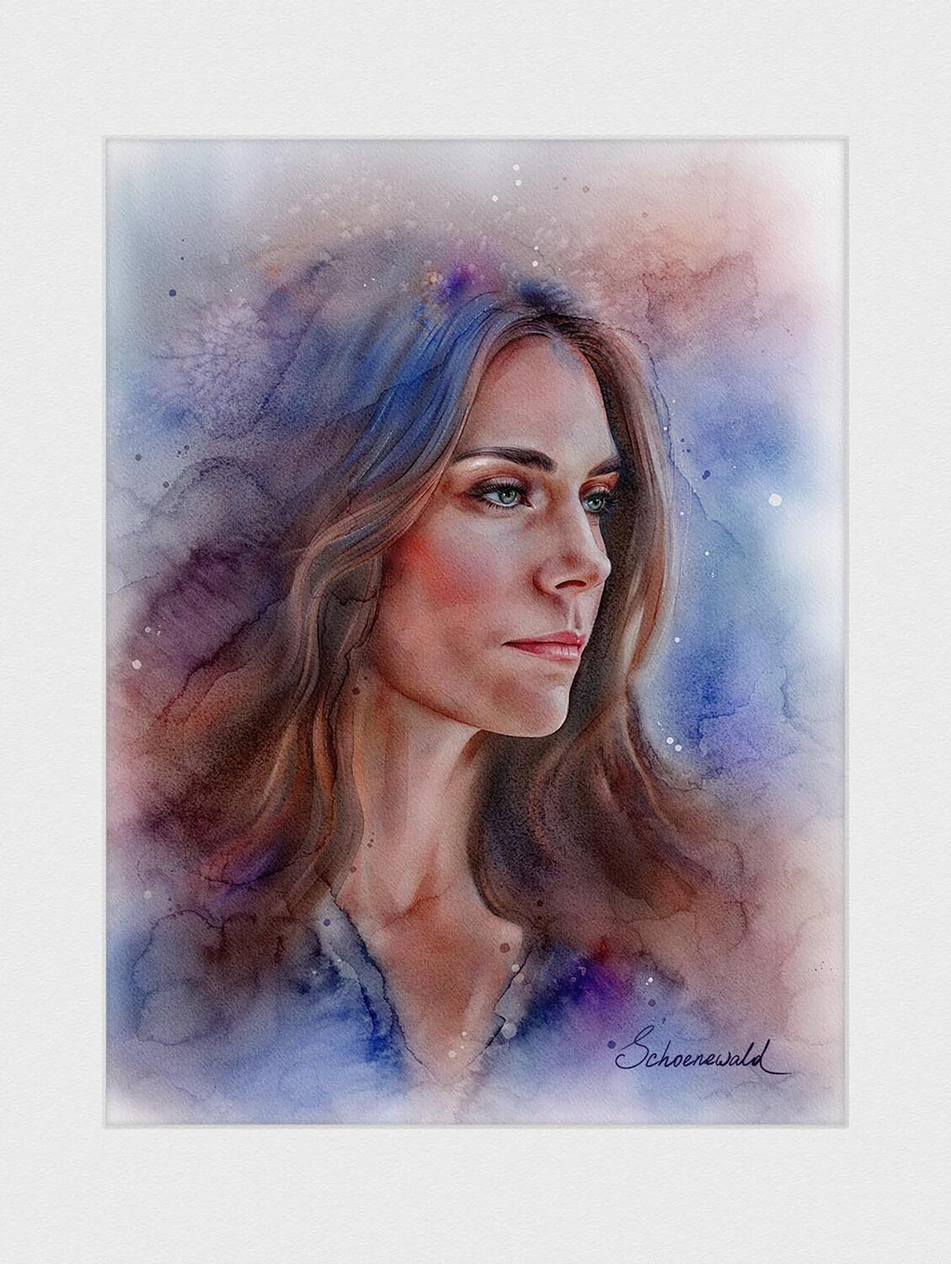painting: (102, 138, 847, 1127)
